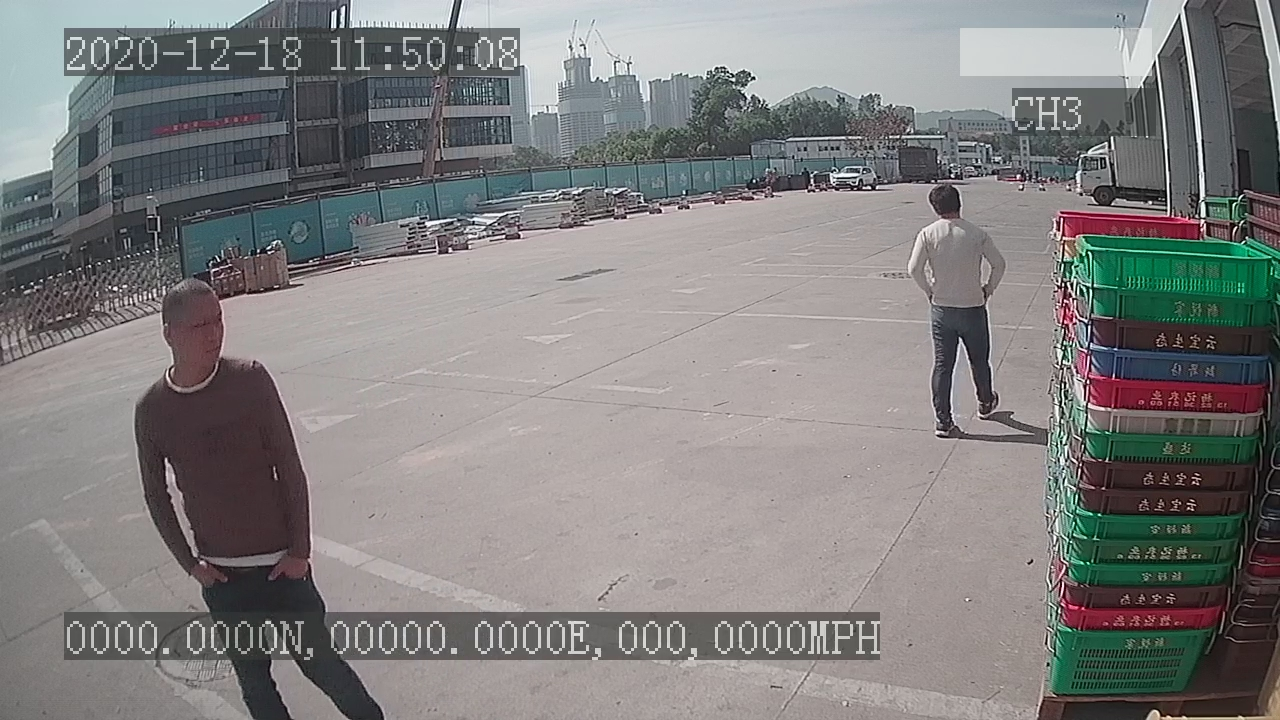person: (901, 181, 1011, 440)
